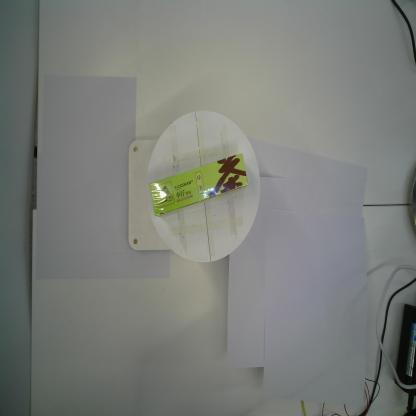Instant Drink: (149, 152, 249, 218)
